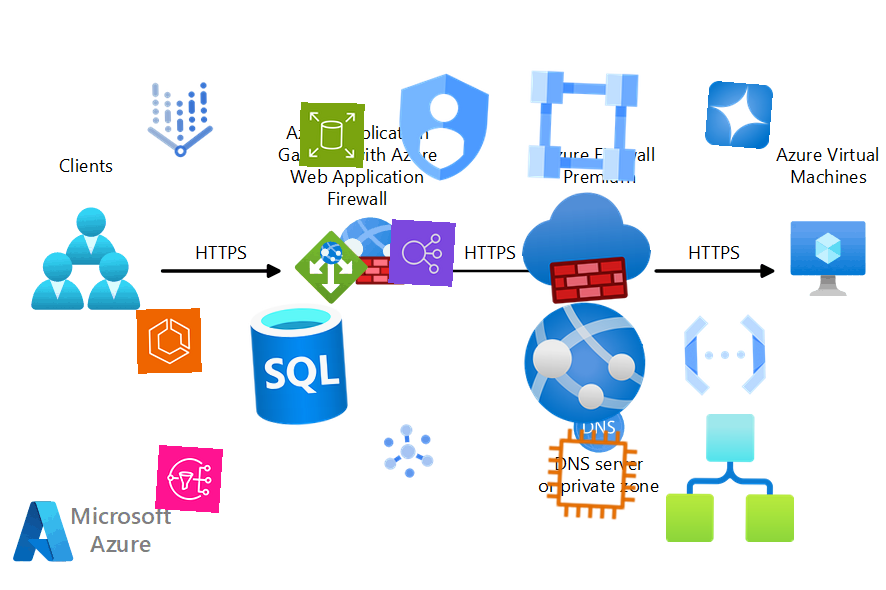aws_amazon_elastic_block_store: (299, 102, 365, 168)
aws_amazon_elastic_container_service: (136, 308, 202, 374)
aws_amazon_simple_notification_service: (155, 445, 223, 513)
aws_ec2_instance: (541, 423, 643, 525)
aws_elastic_load_balancing: (388, 219, 456, 287)
azure_app_services: (517, 295, 653, 431)
azure_firewalls: (516, 177, 656, 317)
azure_logic_apps: (665, 413, 795, 543)
azure_openai: (704, 80, 774, 150)
azure_sql_database: (230, 295, 368, 433)
gcp_cloud_functions: (675, 305, 775, 405)
gcp_identity_and_access_management: (375, 59, 511, 195)
gcp_pubsub: (373, 416, 443, 486)
gcp_vertex_ai: (131, 71, 229, 169)
gcp_virtual_private_cloud: (516, 59, 650, 193)
